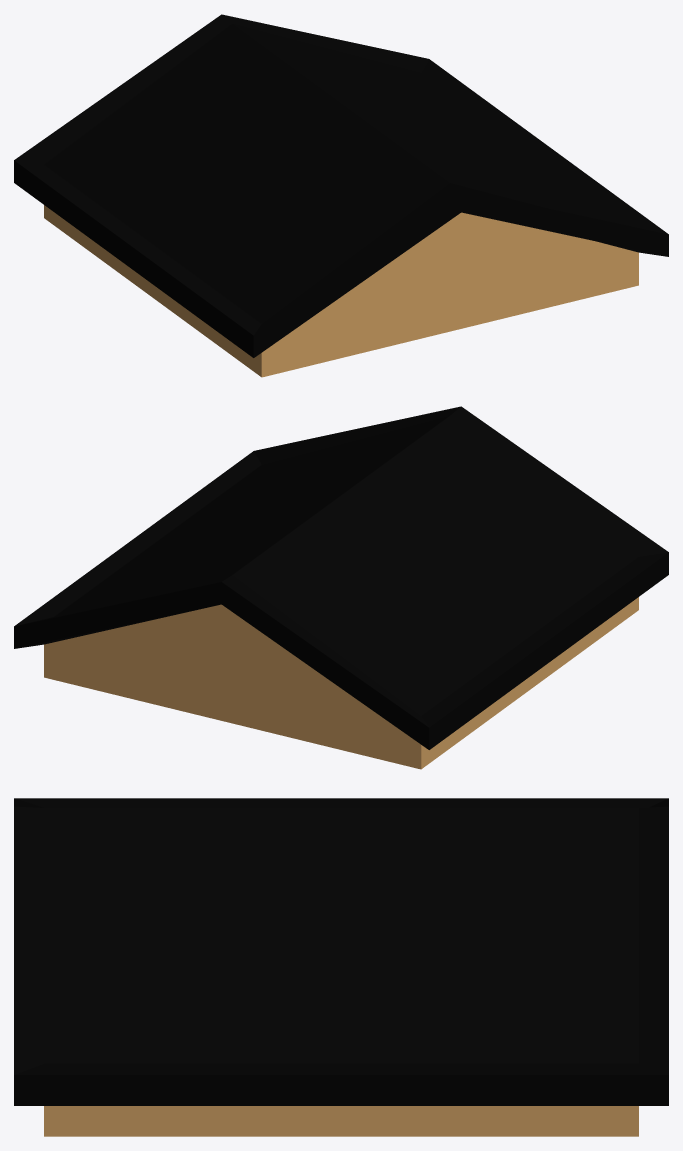
The model's file is buildingsRoof1.fbx.
3 views of the same model, one above another, from view 1: azimuth 30°, elevation 25°; view 2: azimuth 150°, elevation 25°; view 3: azimuth 270°, elevation 25° (orthographic). The views are drawn at different scales.
Visible parts, largest first — view 1: roof2; view 2: roof2; view 3: roof2.
Boxes of the visible parts, x1,y1,x2,y2 form: roof2: [14, 14, 668, 377]; roof2: [14, 406, 668, 769]; roof2: [14, 798, 668, 1136].
Size of the model in its own units: 110 by 37.95 by 110.
